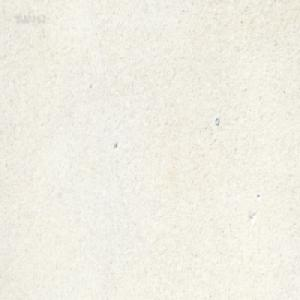Washer: (214, 115, 219, 126)
